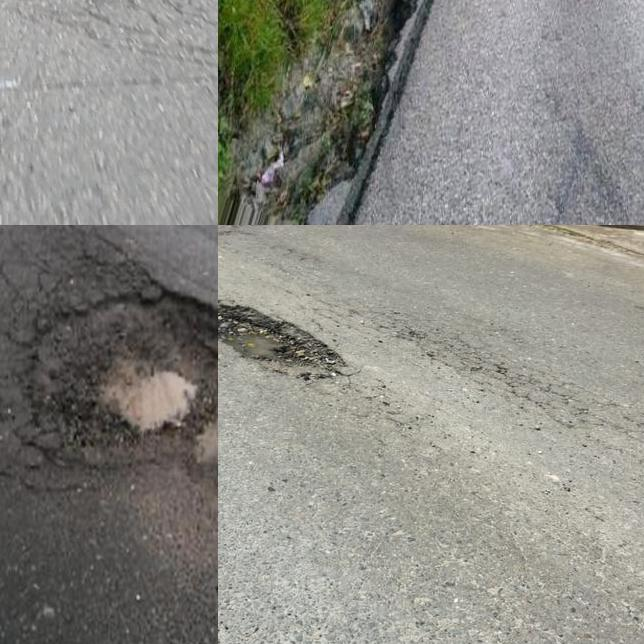Lubang: (0, 242, 218, 484), (218, 306, 346, 372)
Pinggir: (280, 0, 439, 225)
Retak Buaya: (0, 0, 218, 99)
